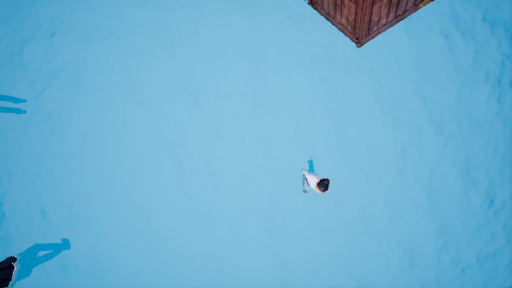person: (291, 158, 331, 204)
